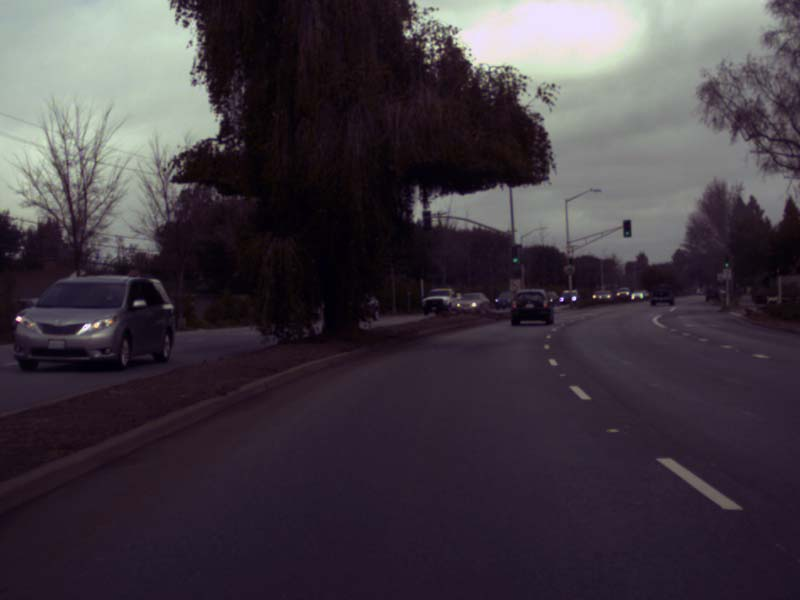Green: (622, 219, 631, 237), (512, 246, 517, 262), (724, 255, 729, 269), (568, 257, 572, 267)
